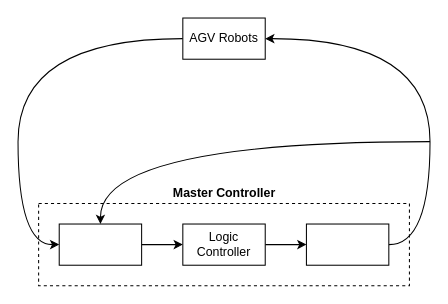
Some shapes in this 448 by 304 pixel diagram are drawn without their labels. The centre of each missing label's shape, as x and y in pixels:
"Effectiveness Controller" goes at point (347, 244).
"State Evaluation" goes at point (100, 244).
